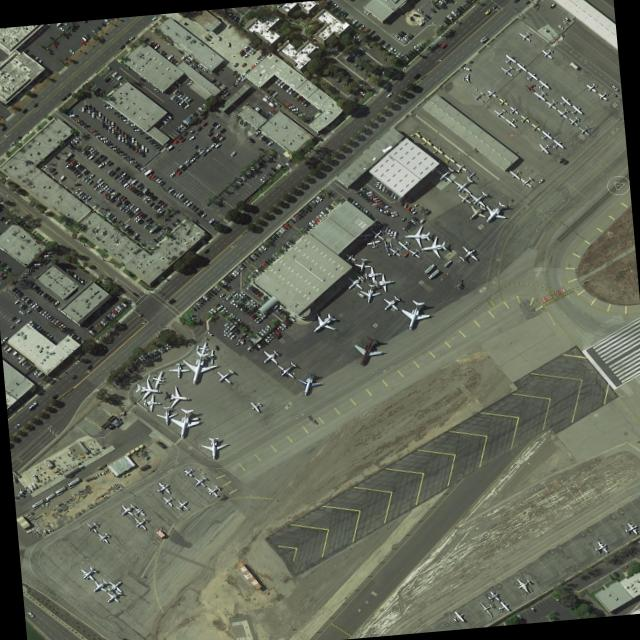large-vehicle: (62, 463, 83, 477), (427, 267, 439, 278), (30, 498, 44, 507), (66, 476, 80, 485), (26, 400, 38, 410), (423, 263, 435, 273), (61, 150, 72, 160), (54, 484, 66, 493), (16, 354, 26, 363), (148, 223, 158, 232), (45, 491, 55, 499), (227, 323, 235, 331), (34, 369, 43, 376), (611, 83, 619, 90), (31, 473, 39, 480), (30, 301, 38, 308), (261, 95, 269, 102), (267, 100, 275, 107), (479, 35, 487, 42), (443, 259, 451, 266), (4, 345, 11, 352), (30, 481, 37, 488), (122, 179, 129, 186), (1, 343, 9, 349), (213, 141, 221, 147), (129, 177, 137, 183), (127, 175, 135, 181), (231, 325, 238, 331), (402, 250, 408, 257), (97, 161, 104, 167), (135, 180, 142, 186), (80, 35, 87, 41), (166, 143, 173, 149), (58, 174, 64, 180), (28, 483, 34, 489), (226, 330, 232, 336), (209, 141, 215, 147), (87, 153, 93, 159), (120, 300, 127, 305), (218, 134, 225, 139), (260, 313, 266, 318), (206, 130, 212, 135), (236, 178, 242, 183), (484, 8, 490, 13), (558, 156, 564, 161), (188, 134, 194, 139), (637, 539, 640, 544), (33, 262, 40, 264), (226, 41, 229, 45), (217, 35, 220, 39)
plane: (177, 348, 219, 384), (394, 296, 433, 331), (349, 333, 385, 369), (303, 306, 342, 339), (167, 406, 202, 438), (476, 197, 513, 227), (418, 234, 448, 260), (293, 370, 324, 395), (162, 384, 192, 408), (272, 356, 302, 380), (453, 241, 482, 265), (133, 377, 162, 401), (462, 200, 490, 224), (340, 270, 368, 293), (402, 223, 430, 246), (449, 173, 478, 195), (200, 435, 227, 458), (256, 345, 283, 368), (377, 291, 404, 314), (211, 364, 238, 386), (432, 162, 459, 184), (466, 186, 493, 208), (86, 575, 112, 596), (75, 562, 100, 582), (357, 282, 382, 302), (103, 575, 127, 595), (154, 404, 178, 424), (512, 573, 534, 594), (373, 271, 395, 292), (115, 500, 139, 519), (148, 368, 168, 388), (129, 513, 151, 531), (478, 597, 497, 616), (363, 264, 383, 282), (143, 392, 161, 411), (621, 518, 640, 536), (153, 478, 173, 495), (172, 495, 191, 512), (203, 481, 222, 498), (101, 589, 121, 605), (189, 472, 209, 488), (591, 538, 611, 554), (168, 362, 189, 377), (353, 256, 372, 272), (368, 225, 387, 241), (455, 189, 474, 205), (469, 87, 487, 102), (517, 173, 535, 188), (449, 608, 466, 623), (498, 62, 516, 76), (491, 105, 509, 119), (94, 529, 112, 543), (194, 340, 210, 355), (247, 397, 263, 412), (548, 136, 565, 150), (576, 122, 593, 136), (516, 28, 533, 42), (160, 492, 177, 506), (485, 588, 502, 602), (406, 245, 423, 259), (84, 519, 101, 533), (567, 102, 583, 116), (534, 77, 550, 91), (532, 87, 548, 101), (555, 105, 571, 119), (556, 93, 572, 107), (495, 598, 511, 612), (130, 504, 146, 518), (543, 97, 560, 110), (537, 128, 554, 141), (395, 237, 412, 250), (503, 114, 519, 127), (501, 52, 517, 65), (512, 60, 528, 73), (523, 69, 539, 82), (463, 168, 479, 181), (440, 151, 456, 164), (566, 113, 582, 126), (539, 46, 555, 59), (536, 140, 552, 153), (507, 166, 523, 179), (452, 160, 467, 173), (418, 134, 433, 147), (483, 86, 498, 99), (583, 80, 599, 92), (341, 250, 357, 262), (387, 244, 403, 256), (595, 89, 610, 101), (429, 143, 444, 155), (365, 237, 381, 247), (523, 81, 537, 92), (495, 95, 509, 106), (517, 112, 531, 123), (528, 121, 542, 132), (507, 104, 520, 115), (182, 465, 195, 476), (382, 237, 392, 251), (208, 348, 216, 363), (462, 72, 469, 82)
small-vehicle: (143, 167, 152, 175), (26, 610, 34, 617), (33, 367, 41, 374), (20, 358, 29, 364), (21, 47, 30, 53), (231, 298, 238, 305), (255, 289, 262, 296), (62, 324, 69, 331), (122, 222, 129, 229), (207, 216, 214, 223), (268, 235, 276, 241), (253, 267, 261, 273), (219, 278, 227, 284), (25, 363, 33, 369), (35, 305, 43, 311), (17, 308, 25, 314), (273, 100, 281, 106), (181, 117, 189, 123), (138, 75, 146, 81), (338, 9, 346, 15), (134, 189, 142, 195), (62, 32, 70, 38), (160, 117, 168, 123), (176, 47, 184, 53), (15, 491, 24, 496), (275, 229, 282, 235), (284, 239, 291, 245), (273, 250, 280, 256), (270, 252, 277, 258), (262, 240, 269, 246), (259, 243, 266, 249), (247, 254, 254, 260), (277, 227, 284, 233), (279, 225, 286, 231), (319, 209, 326, 215), (284, 221, 291, 227), (314, 194, 321, 200), (308, 200, 315, 206), (305, 202, 312, 208), (303, 204, 310, 210), (289, 217, 296, 223), (239, 304, 246, 310), (229, 297, 236, 303), (248, 297, 255, 303), (248, 284, 255, 290), (257, 340, 264, 346), (260, 338, 267, 344), (277, 323, 284, 329), (270, 329, 277, 335), (265, 333, 272, 339), (262, 335, 269, 341), (331, 198, 338, 204), (84, 194, 91, 200), (74, 187, 81, 193), (9, 139, 16, 145), (114, 199, 121, 205), (412, 215, 419, 221), (407, 219, 414, 225), (13, 421, 20, 427), (139, 353, 146, 359), (113, 305, 120, 311), (108, 309, 115, 315), (235, 319, 242, 325), (233, 317, 240, 323), (228, 313, 235, 319), (222, 329, 229, 335), (52, 299, 59, 305), (11, 285, 18, 291), (25, 307, 32, 313), (18, 301, 25, 307), (40, 309, 47, 315), (43, 311, 50, 317), (45, 313, 52, 319), (68, 331, 75, 337), (64, 327, 71, 333), (58, 321, 65, 327), (231, 68, 237, 75), (253, 129, 260, 135), (279, 81, 286, 87), (274, 77, 281, 83), (202, 101, 209, 107), (200, 112, 207, 118), (413, 44, 420, 50), (328, 70, 335, 76), (416, 42, 423, 48), (408, 48, 415, 54), (341, 11, 348, 17), (336, 7, 343, 13), (357, 34, 364, 40), (352, 31, 359, 37), (343, 53, 350, 59), (167, 296, 173, 303), (357, 23, 364, 29), (362, 27, 369, 33), (133, 206, 140, 212), (125, 182, 132, 188), (117, 176, 124, 182), (84, 151, 91, 157), (108, 169, 115, 175), (148, 200, 155, 206), (141, 186, 148, 192), (45, 45, 52, 51), (68, 47, 75, 53), (131, 231, 138, 237), (168, 56, 175, 62), (166, 53, 173, 59), (186, 79, 193, 85), (189, 203, 196, 209), (185, 200, 192, 206), (167, 186, 174, 192), (165, 184, 172, 190), (158, 179, 165, 185), (140, 166, 147, 172), (282, 242, 290, 247), (254, 248, 262, 253), (317, 192, 325, 197), (298, 209, 306, 214), (295, 211, 303, 216), (272, 328, 280, 333), (52, 153, 60, 158), (207, 309, 215, 314), (356, 92, 364, 97), (399, 37, 407, 42), (126, 184, 134, 189), (57, 25, 65, 30), (98, 89, 104, 95), (311, 218, 317, 224), (231, 269, 237, 275), (237, 294, 243, 300), (235, 292, 241, 298), (229, 288, 235, 294), (258, 329, 264, 335), (251, 313, 257, 319), (249, 311, 255, 317), (226, 321, 232, 327), (93, 183, 99, 189), (91, 181, 97, 187), (76, 171, 82, 177), (73, 169, 79, 175), (65, 90, 71, 96), (110, 214, 116, 220), (105, 210, 111, 216), (0, 273, 6, 279), (408, 206, 414, 212), (530, 605, 536, 611), (112, 379, 118, 385), (166, 341, 172, 347), (111, 307, 117, 313), (85, 323, 91, 329), (231, 315, 237, 321), (228, 333, 234, 339), (38, 307, 44, 313), (42, 330, 48, 336), (44, 332, 50, 338), (46, 333, 52, 339), (42, 292, 48, 298), (48, 314, 54, 320), (67, 329, 73, 335), (60, 323, 66, 329), (113, 81, 119, 87), (235, 75, 241, 81), (233, 71, 239, 77), (242, 51, 248, 57), (225, 22, 231, 28), (249, 136, 255, 142), (294, 92, 300, 98), (288, 87, 294, 93), (285, 85, 291, 91), (283, 83, 289, 89), (277, 79, 283, 85), (298, 96, 304, 102), (219, 126, 225, 132), (214, 130, 220, 136), (214, 122, 220, 128), (179, 122, 185, 128), (169, 170, 175, 176), (173, 166, 179, 172), (229, 149, 235, 155), (296, 94, 302, 100), (454, 8, 460, 14), (549, 1, 555, 7), (195, 117, 201, 123), (303, 100, 309, 106), (332, 4, 338, 10), (352, 49, 358, 55), (346, 55, 352, 61), (440, 41, 446, 47), (418, 19, 424, 25), (397, 52, 403, 58), (395, 50, 401, 56), (392, 49, 398, 55), (390, 47, 396, 53), (387, 45, 393, 51), (383, 41, 389, 47), (62, 54, 68, 60), (157, 232, 163, 238), (140, 211, 146, 217), (133, 214, 139, 220), (126, 201, 132, 207), (150, 40, 156, 46), (187, 54, 193, 60), (172, 95, 178, 101), (170, 93, 176, 99), (185, 96, 191, 102), (182, 94, 188, 100), (183, 197, 189, 203), (181, 196, 187, 202), (133, 161, 139, 167), (234, 265, 241, 270), (272, 231, 279, 236), (270, 233, 277, 238), (268, 255, 275, 260), (263, 259, 270, 264), (261, 261, 268, 266), (258, 263, 265, 268), (247, 274, 254, 279), (239, 261, 246, 266), (322, 207, 329, 212), (317, 212, 324, 217), (302, 225, 309, 230), (312, 196, 319, 201), (310, 198, 317, 203), (301, 207, 308, 212), (294, 213, 301, 218), (291, 215, 298, 220), (232, 268, 239, 273), (246, 310, 253, 315), (234, 301, 241, 306), (225, 293, 232, 298), (211, 286, 218, 291), (209, 288, 216, 293), (204, 292, 211, 297), (249, 303, 256, 308), (260, 294, 267, 299), (245, 283, 252, 288), (275, 305, 282, 310), (255, 309, 262, 314), (282, 319, 289, 324), (280, 321, 287, 326), (267, 332, 274, 337), (49, 166, 56, 171), (60, 95, 67, 100), (88, 172, 95, 177), (83, 169, 90, 174), (537, 177, 544, 182), (418, 217, 425, 222), (409, 217, 416, 222), (401, 225, 408, 230), (31, 55, 38, 60), (1, 335, 8, 340), (129, 365, 136, 370), (146, 351, 153, 356), (153, 353, 160, 358), (219, 306, 226, 311), (190, 305, 197, 310), (218, 291, 225, 296), (243, 325, 250, 330), (223, 311, 230, 316), (221, 309, 228, 314), (33, 304, 40, 309), (26, 298, 33, 303), (16, 291, 23, 296), (12, 288, 19, 293), (13, 298, 20, 303), (9, 315, 16, 320), (30, 282, 37, 287), (55, 320, 62, 325), (52, 318, 59, 323), (50, 316, 57, 321), (35, 58, 42, 63), (266, 140, 273, 145), (263, 93, 270, 98), (236, 18, 243, 23), (270, 166, 277, 171), (197, 105, 204, 110), (195, 107, 202, 112), (189, 112, 196, 117), (187, 114, 194, 119), (185, 116, 192, 121), (180, 121, 187, 126), (300, 98, 307, 103), (462, 0, 469, 5), (455, 6, 462, 11), (446, 13, 453, 18), (444, 15, 451, 20), (442, 18, 449, 23), (159, 51, 166, 56), (335, 75, 342, 80), (411, 47, 418, 52), (329, 2, 336, 7), (352, 96, 359, 101), (358, 89, 365, 94), (385, 91, 392, 96), (132, 291, 139, 296), (355, 22, 362, 27), (362, 9, 369, 14), (406, 50, 413, 55), (416, 7, 423, 12), (397, 31, 404, 36), (393, 33, 400, 38), (129, 186, 136, 191), (170, 220, 177, 225), (165, 224, 172, 229), (141, 195, 148, 200), (137, 183, 144, 188), (120, 171, 127, 176), (117, 169, 124, 174), (103, 158, 110, 163), (91, 149, 98, 154), (89, 147, 96, 152), (95, 24, 102, 29), (90, 28, 97, 33), (65, 30, 72, 35), (63, 21, 70, 26), (79, 39, 86, 44), (50, 42, 57, 47), (107, 187, 114, 192), (118, 43, 125, 48), (115, 74, 122, 79), (104, 75, 111, 80), (152, 43, 159, 48), (147, 39, 154, 44), (152, 86, 159, 91), (155, 143, 162, 148), (177, 99, 184, 104), (174, 98, 181, 103), (174, 191, 181, 196), (369, 193, 377, 197), (376, 199, 384, 203), (19, 487, 27, 491), (287, 104, 295, 108), (438, 0, 446, 4), (102, 138, 110, 142), (266, 257, 272, 262), (257, 265, 263, 270), (252, 270, 258, 275), (257, 246, 263, 251), (252, 250, 258, 255), (250, 253, 256, 258), (283, 224, 289, 229), (301, 227, 307, 232), (329, 201, 335, 206), (327, 203, 333, 208), (315, 214, 321, 219), (313, 216, 319, 221), (308, 220, 314, 225), (237, 263, 243, 268), (244, 300, 250, 305), (265, 323, 271, 328), (260, 327, 266, 332), (255, 317, 261, 322), (253, 315, 259, 320), (244, 308, 250, 313), (242, 306, 248, 311), (214, 283, 220, 288), (207, 290, 213, 295), (239, 289, 245, 294), (255, 342, 261, 347), (228, 272, 234, 277), (226, 274, 232, 279), (224, 276, 230, 281), (274, 317, 280, 322), (271, 303, 277, 308), (285, 317, 291, 322), (275, 325, 281, 330), (200, 296, 206, 301), (0, 260, 5, 266), (69, 158, 75, 163), (109, 197, 115, 202), (103, 190, 108, 196), (97, 187, 103, 192), (86, 178, 92, 183), (64, 162, 70, 167), (79, 191, 85, 196), (77, 189, 83, 194), (51, 169, 57, 174), (4, 218, 10, 223), (76, 163, 82, 168), (32, 101, 38, 106), (16, 134, 22, 139), (22, 107, 28, 112), (81, 167, 87, 172), (128, 211, 134, 216), (126, 209, 132, 214), (123, 207, 129, 212), (121, 206, 127, 211), (118, 204, 124, 209), (3, 265, 9, 270), (471, 146, 477, 151), (411, 208, 417, 213), (202, 294, 208, 299), (198, 298, 204, 303), (516, 613, 522, 618), (114, 377, 120, 382), (137, 355, 143, 360), (144, 352, 149, 358), (157, 347, 163, 352), (163, 343, 169, 348), (116, 304, 122, 309), (106, 312, 112, 317), (104, 314, 110, 319), (97, 321, 103, 326), (88, 328, 94, 333), (117, 375, 123, 380), (122, 371, 128, 376), (238, 321, 244, 326), (227, 312, 233, 317), (216, 304, 222, 309), (223, 320, 229, 325), (222, 326, 228, 331), (28, 300, 34, 305), (24, 296, 30, 301), (21, 294, 27, 299), (21, 303, 27, 308), (34, 324, 40, 329), (45, 294, 51, 299), (39, 290, 45, 295), (37, 288, 43, 293), (34, 286, 40, 291), (33, 284, 39, 289), (74, 335, 80, 340), (71, 333, 77, 338), (240, 71, 246, 76), (240, 75, 245, 81), (232, 61, 238, 66), (240, 50, 246, 55), (238, 48, 244, 53), (250, 48, 255, 54), (247, 47, 253, 52), (243, 43, 249, 48), (284, 160, 290, 165), (249, 63, 255, 68), (254, 59, 260, 64), (292, 91, 298, 96), (269, 89, 275, 94), (258, 55, 264, 60), (271, 91, 277, 96), (269, 97, 275, 102), (267, 109, 273, 114), (269, 107, 275, 112), (226, 11, 232, 16), (229, 13, 235, 18), (231, 15, 237, 20), (263, 172, 269, 177), (261, 174, 267, 179), (188, 127, 194, 132), (180, 164, 186, 169), (258, 176, 264, 181), (242, 172, 248, 177), (244, 169, 250, 174), (247, 167, 253, 172), (250, 165, 256, 170), (178, 162, 184, 167), (185, 160, 191, 165), (183, 158, 189, 163), (189, 156, 195, 161), (192, 150, 198, 155), (194, 152, 200, 157), (198, 148, 204, 153), (201, 149, 206, 155), (205, 146, 211, 151), (181, 130, 187, 135), (434, 3, 440, 8), (460, 2, 466, 7), (458, 4, 464, 9), (450, 9, 456, 14), (429, 6, 435, 11), (562, 19, 568, 24), (557, 23, 563, 28), (166, 205, 172, 210), (204, 35, 210, 40), (491, 3, 497, 8), (100, 20, 105, 26), (351, 18, 357, 23), (334, 6, 340, 11), (327, 1, 333, 6), (355, 33, 361, 38), (354, 52, 360, 57), (358, 64, 364, 69), (353, 61, 359, 66), (348, 57, 354, 62), (323, 152, 329, 157), (402, 35, 408, 40), (413, 72, 419, 77), (424, 12, 430, 17), (421, 15, 427, 20), (407, 31, 413, 36), (404, 33, 410, 38), (400, 29, 406, 34), (371, 33, 377, 38), (179, 136, 185, 141), (83, 149, 89, 154), (81, 148, 87, 153), (159, 231, 165, 236), (154, 235, 160, 240), (152, 237, 158, 242), (147, 218, 153, 223), (144, 197, 150, 202), (158, 200, 164, 205), (156, 206, 162, 211), (151, 202, 157, 207), (152, 194, 157, 200), (147, 190, 153, 195), (144, 189, 150, 194), (114, 165, 120, 170), (88, 145, 94, 150), (131, 204, 137, 209), (70, 139, 76, 144), (72, 137, 78, 142), (74, 134, 80, 139), (70, 26, 76, 31), (83, 33, 89, 38), (117, 193, 123, 198), (135, 216, 141, 221), (131, 213, 137, 218), (121, 198, 127, 203), (105, 185, 111, 190), (102, 183, 108, 188), (101, 181, 107, 186), (98, 180, 104, 185), (96, 177, 102, 182), (128, 34, 134, 39), (111, 70, 117, 75), (172, 138, 178, 143), (171, 58, 177, 63), (163, 115, 169, 120), (180, 54, 186, 59), (183, 103, 189, 108), (220, 85, 226, 90), (210, 77, 216, 82), (201, 66, 207, 71), (197, 62, 203, 67), (188, 62, 194, 67), (180, 101, 186, 106), (180, 93, 186, 98), (177, 91, 183, 96), (175, 80, 181, 85), (177, 192, 183, 197), (172, 190, 178, 195), (170, 188, 175, 194), (155, 176, 161, 181), (152, 174, 158, 179), (150, 173, 156, 178), (147, 172, 153, 177), (139, 165, 145, 170), (136, 163, 142, 168), (280, 245, 287, 249), (249, 272, 256, 276), (324, 206, 331, 210), (80, 175, 87, 179), (0, 125, 7, 129), (367, 191, 374, 195), (392, 230, 396, 237), (381, 209, 388, 213), (363, 195, 370, 199), (372, 195, 379, 199), (374, 197, 381, 201), (405, 222, 412, 226), (403, 224, 410, 228), (126, 367, 133, 371), (101, 317, 108, 321), (202, 335, 209, 339), (229, 81, 236, 85), (291, 106, 298, 110), (191, 111, 198, 115), (174, 128, 181, 132), (448, 12, 455, 16), (463, 65, 470, 69), (325, 0, 332, 4), (137, 146, 141, 153), (247, 302, 252, 307), (233, 291, 238, 296), (264, 325, 269, 330), (84, 176, 89, 181), (82, 193, 87, 198), (79, 165, 84, 170), (406, 204, 411, 209), (400, 215, 405, 220), (160, 345, 165, 350), (100, 319, 105, 324), (132, 362, 137, 367), (48, 296, 53, 301), (32, 322, 37, 327), (9, 323, 14, 328), (15, 317, 20, 322), (29, 281, 34, 286), (79, 338, 84, 343), (241, 61, 246, 66), (259, 133, 264, 138), (210, 135, 215, 140), (210, 120, 215, 125), (193, 143, 198, 148), (177, 125, 182, 130), (240, 174, 245, 179), (257, 159, 262, 164), (188, 154, 193, 159), (382, 68, 387, 73), (374, 35, 379, 40), (116, 175, 121, 180), (164, 226, 169, 231), (138, 210, 143, 215), (161, 201, 166, 206), (156, 198, 161, 203), (159, 207, 164, 212), (154, 204, 159, 209), (149, 192, 154, 197), (107, 159, 112, 164), (138, 218, 143, 223), (143, 222, 148, 227), (125, 226, 130, 231), (129, 203, 134, 208), (120, 195, 125, 200), (143, 36, 148, 41), (151, 15, 156, 20), (224, 90, 229, 95), (195, 67, 200, 72), (198, 210, 203, 215), (157, 178, 162, 183), (306, 223, 312, 227), (71, 168, 77, 172), (69, 166, 75, 170), (74, 162, 80, 166), (389, 229, 393, 235), (382, 223, 386, 229), (359, 191, 365, 195), (361, 207, 365, 213), (358, 205, 362, 211), (375, 180, 379, 186), (381, 185, 385, 191), (403, 201, 407, 207), (195, 301, 201, 305), (150, 350, 156, 354), (193, 303, 199, 307), (210, 307, 216, 311), (206, 330, 212, 334), (29, 321, 35, 325), (27, 319, 33, 323), (266, 170, 272, 174), (206, 33, 212, 37), (257, 146, 263, 150), (297, 112, 305, 115), (293, 109, 301, 112), (216, 133, 222, 137), (207, 126, 213, 130), (201, 120, 207, 124), (196, 125, 202, 129), (254, 162, 260, 166), (259, 157, 265, 161), (202, 145, 208, 149), (66, 265, 69, 273), (342, 82, 348, 86), (404, 53, 410, 57), (378, 39, 384, 43), (106, 168, 112, 172), (92, 157, 98, 161), (172, 219, 178, 223), (175, 217, 181, 221), (145, 216, 151, 220), (97, 153, 103, 157), (69, 113, 77, 116), (73, 22, 79, 26), (104, 141, 112, 144), (111, 146, 119, 149), (124, 39, 130, 43), (158, 49, 164, 53), (152, 142, 160, 145), (168, 40, 174, 44), (215, 81, 221, 85), (191, 62, 197, 66), (184, 57, 190, 61), (171, 83, 177, 87), (172, 88, 178, 92), (200, 212, 206, 216), (192, 206, 198, 210), (366, 190, 373, 193), (387, 226, 390, 233), (370, 201, 377, 204), (366, 197, 373, 200), (43, 253, 50, 256), (80, 277, 83, 284), (412, 12, 419, 15), (82, 123, 89, 126), (75, 118, 82, 121), (116, 149, 123, 152), (119, 151, 126, 154), (126, 156, 133, 159), (150, 139, 157, 142), (146, 137, 153, 140), (144, 134, 151, 137), (137, 130, 144, 133), (128, 122, 135, 125), (112, 110, 119, 113), (129, 159, 136, 162), (346, 195, 350, 200), (348, 197, 352, 202), (72, 161, 77, 165), (351, 199, 355, 204), (384, 225, 388, 230), (367, 211, 371, 216), (363, 209, 367, 214), (611, 91, 616, 95), (378, 183, 382, 188), (384, 187, 388, 192), (15, 290, 20, 294), (245, 46, 249, 51), (262, 135, 267, 139), (264, 138, 269, 142), (256, 54, 261, 58), (212, 137, 217, 141), (215, 138, 219, 143), (176, 169, 181, 173), (197, 147, 202, 151), (386, 86, 391, 90), (408, 14, 412, 19), (135, 209, 140, 213), (68, 108, 72, 113), (175, 90, 180, 94), (80, 106, 84, 111), (107, 126, 111, 131), (101, 121, 105, 126), (362, 188, 368, 191), (391, 212, 397, 215), (361, 194, 367, 197), (356, 190, 362, 193), (356, 203, 359, 209), (354, 201, 357, 207), (47, 250, 53, 253), (390, 191, 393, 197), (380, 202, 386, 205), (383, 204, 389, 207), (73, 272, 76, 278), (189, 313, 195, 316), (285, 102, 291, 105), (15, 476, 18, 482), (523, 0, 529, 3), (100, 136, 106, 139), (92, 130, 98, 133), (132, 125, 138, 128), (125, 120, 131, 123), (103, 102, 109, 105), (131, 143, 134, 149), (124, 138, 127, 144), (114, 130, 117, 136), (111, 127, 114, 133), (101, 114, 104, 120), (68, 164, 72, 168), (564, 15, 568, 19), (0, 215, 4, 219), (89, 128, 97, 130), (369, 199, 374, 202), (393, 193, 396, 198), (77, 276, 80, 281), (466, 0, 471, 3), (114, 124, 117, 129), (91, 111, 94, 116), (84, 103, 87, 108), (87, 103, 90, 108), (128, 141, 131, 146), (121, 130, 124, 135), (127, 135, 130, 140), (131, 136, 134, 141), (134, 139, 137, 144), (137, 142, 140, 147), (144, 146, 147, 151), (91, 106, 94, 111), (121, 136, 124, 141), (105, 124, 108, 129), (94, 109, 97, 114), (74, 182, 81, 184), (373, 204, 380, 206), (30, 265, 37, 267), (27, 268, 34, 270), (121, 154, 128, 156), (95, 134, 102, 136), (109, 144, 116, 146), (134, 128, 141, 130), (122, 118, 129, 120), (119, 115, 126, 117), (115, 113, 122, 115), (105, 105, 112, 107), (0, 270, 3, 274), (360, 187, 366, 189), (390, 210, 396, 212), (190, 316, 196, 318), (20, 274, 26, 276), (24, 271, 30, 273), (17, 277, 23, 279), (164, 217, 170, 219), (79, 121, 85, 123), (141, 144, 143, 150), (135, 145, 137, 151), (108, 118, 110, 124), (104, 117, 107, 121), (111, 120, 113, 125), (118, 127, 120, 132), (88, 108, 90, 113), (124, 132, 126, 137), (141, 151, 143, 156), (118, 134, 120, 139), (98, 111, 100, 116), (443, 0, 447, 2), (513, 0, 517, 1)
